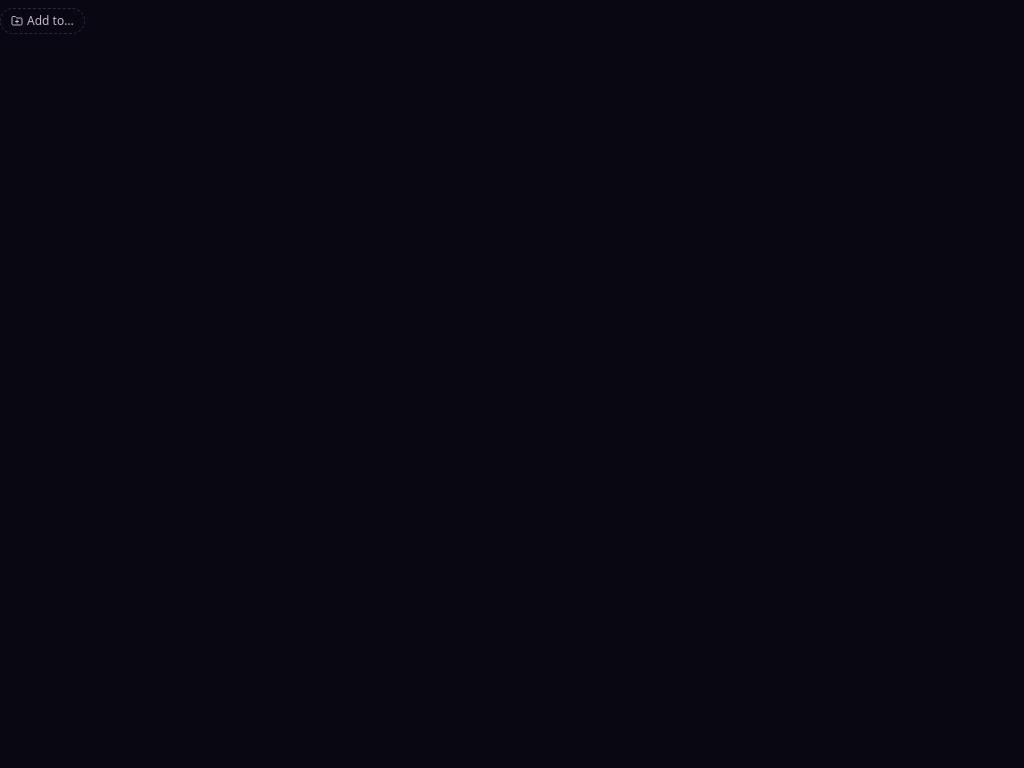
Scenario: DestinationPicker › picks a creation by tapping it in the list
The width and height of the screenshot is (1024, 768).
Click the button "Add to…" at (42, 21), box x1=0 y1=8 x2=85 y2=34
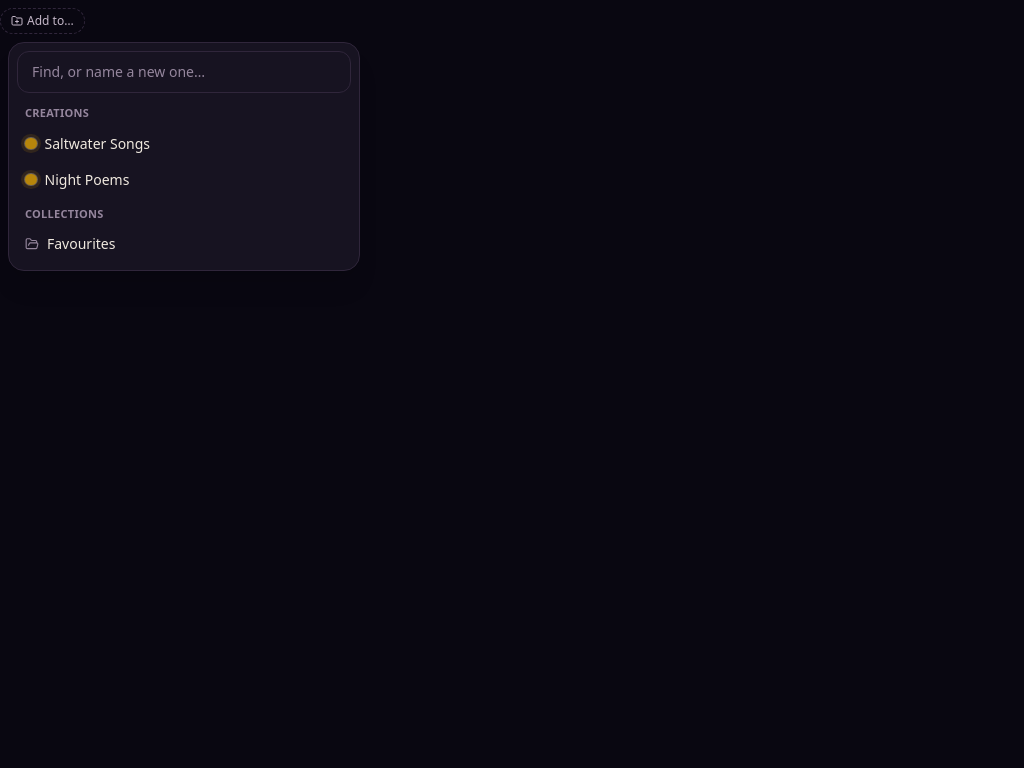
Click the button "Night Poems" at (87, 179), box x1=17 y1=162 x2=351 y2=198
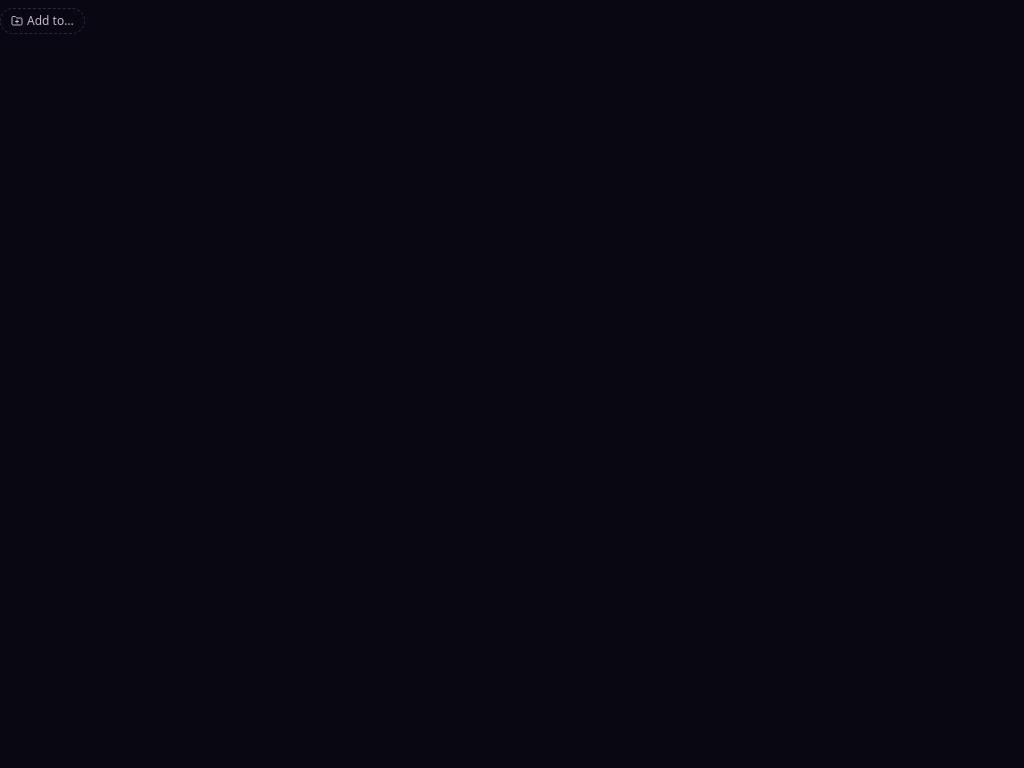
Result: the dialog is gone
